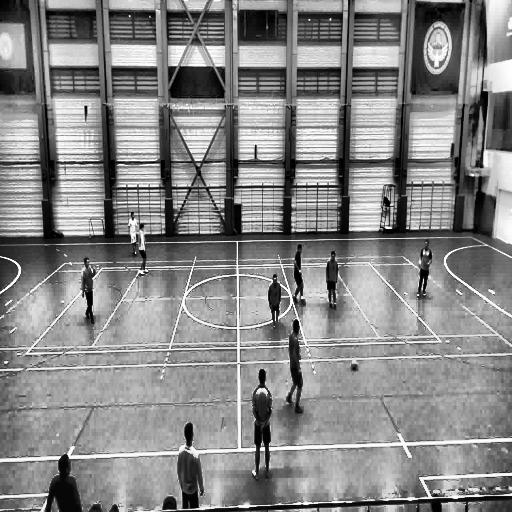ball: (351, 359, 357, 370)
player: (178, 421, 204, 507), (251, 370, 271, 476), (286, 319, 302, 414), (81, 258, 95, 324), (417, 241, 431, 298), (268, 274, 281, 329), (326, 251, 338, 310), (292, 244, 303, 306), (138, 223, 147, 273), (128, 212, 138, 255)
